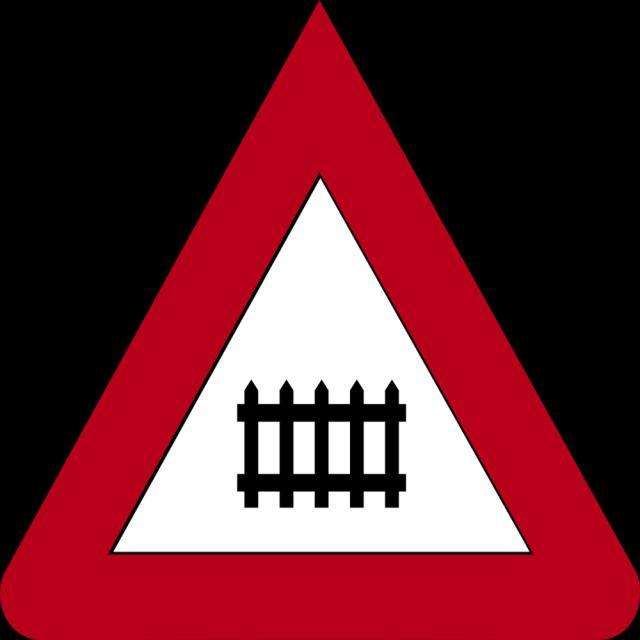guarded level crossing: (25, 23, 612, 606)
